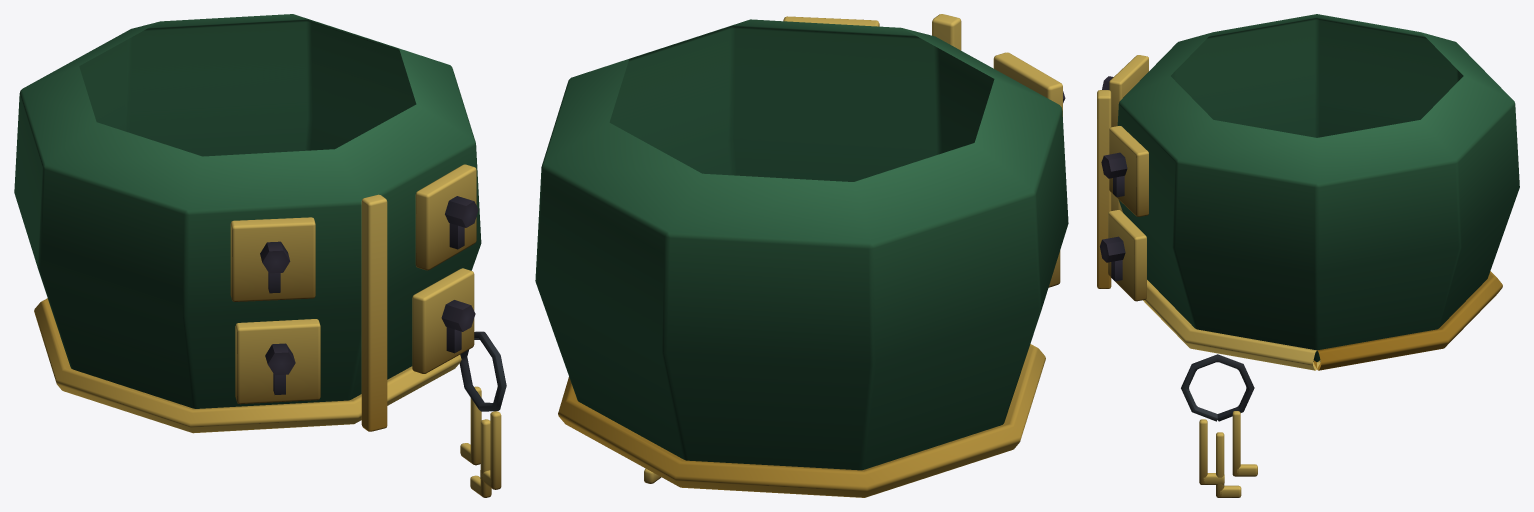
Rendered from lg_vaultkeeper_vest.glb.
The picture shows the model from 3 angles, left to right: view 1: azimuth 30°, elevation 25°; view 2: azimuth 150°, elevation 25°; view 3: azimuth 270°, elevation 25°; orthographic projection. The views are drawn at different scales.
Visible parts, largest first — view 1: lg_vaultkeeper_vest, lg_vaultkeeper_vest_trim; view 2: lg_vaultkeeper_vest; view 3: lg_vaultkeeper_vest, lg_vaultkeeper_vest_trim.
Boxes of the visible parts, bbox=[...] form: lg_vaultkeeper_vest: bbox=[14, 14, 506, 497]; lg_vaultkeeper_vest_trim: bbox=[260, 196, 478, 394]; lg_vaultkeeper_vest: bbox=[535, 14, 1068, 497]; lg_vaultkeeper_vest: bbox=[1097, 14, 1519, 497]; lg_vaultkeeper_vest_trim: bbox=[1100, 76, 1127, 281].
Bounding box in the file's own units: 1.72 × 1.62 × 1.79.
